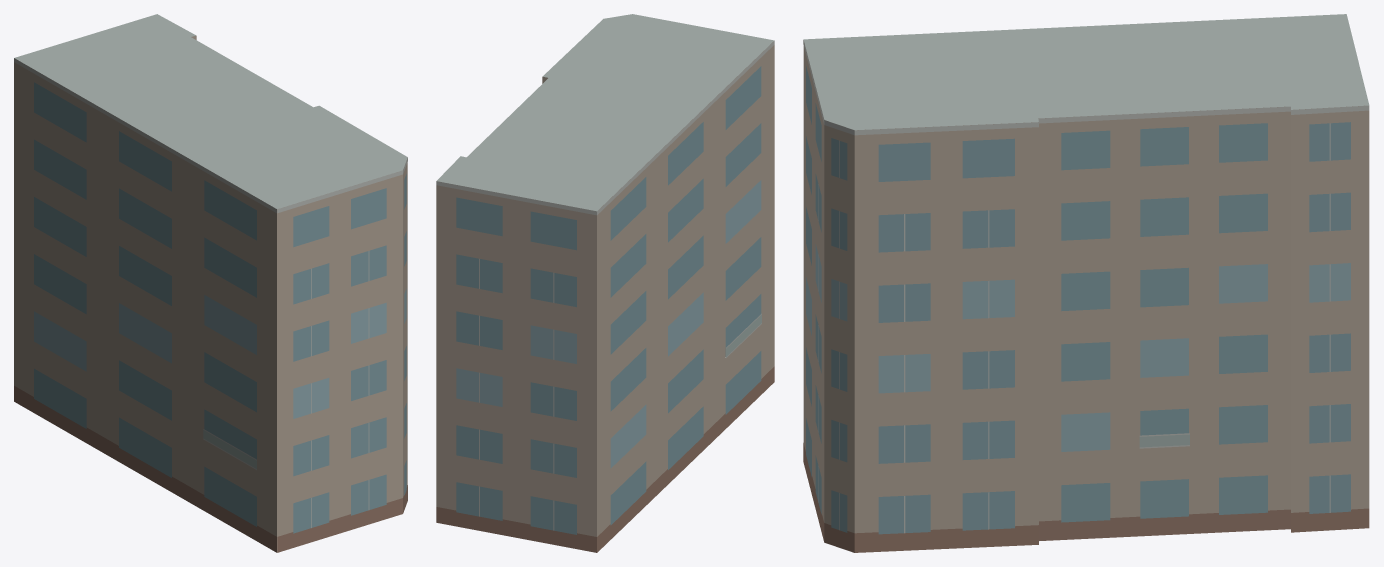
Rendered from survey-upis-32729340.glb.
3 views of the same model, side by side, from view 1: azimuth 30°, elevation 25°; view 2: azimuth 150°, elevation 25°; view 3: azimuth 270°, elevation 25° (orthographic). The views are drawn at different scales.
Parts seen in each view (by area): view 1: survey-upis-32729340.tmp; view 2: survey-upis-32729340.tmp; view 3: survey-upis-32729340.tmp.
Part boxes in pixels (box(x1,y1,x2,y2)): survey-upis-32729340.tmp: box(14, 14, 407, 552); survey-upis-32729340.tmp: box(436, 14, 774, 552); survey-upis-32729340.tmp: box(803, 14, 1369, 552).
Size of the model in its own units: 11.98 by 20.3 by 24.64.
